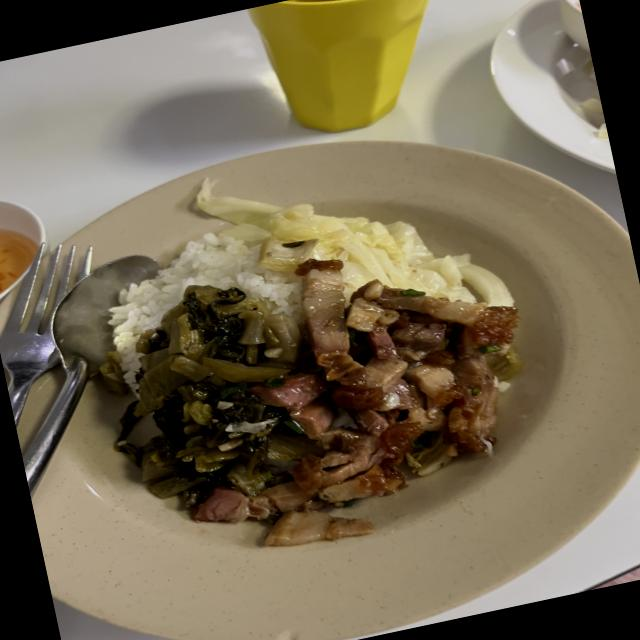bap cai xao: (196, 178, 511, 304)
com: (109, 232, 299, 390)
nuoc mam: (0, 229, 37, 292)
rau: (116, 285, 301, 496)
